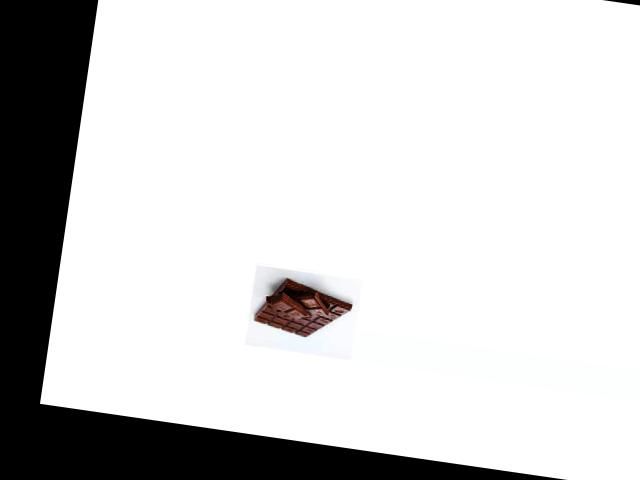chocolate: (250, 270, 356, 348)
